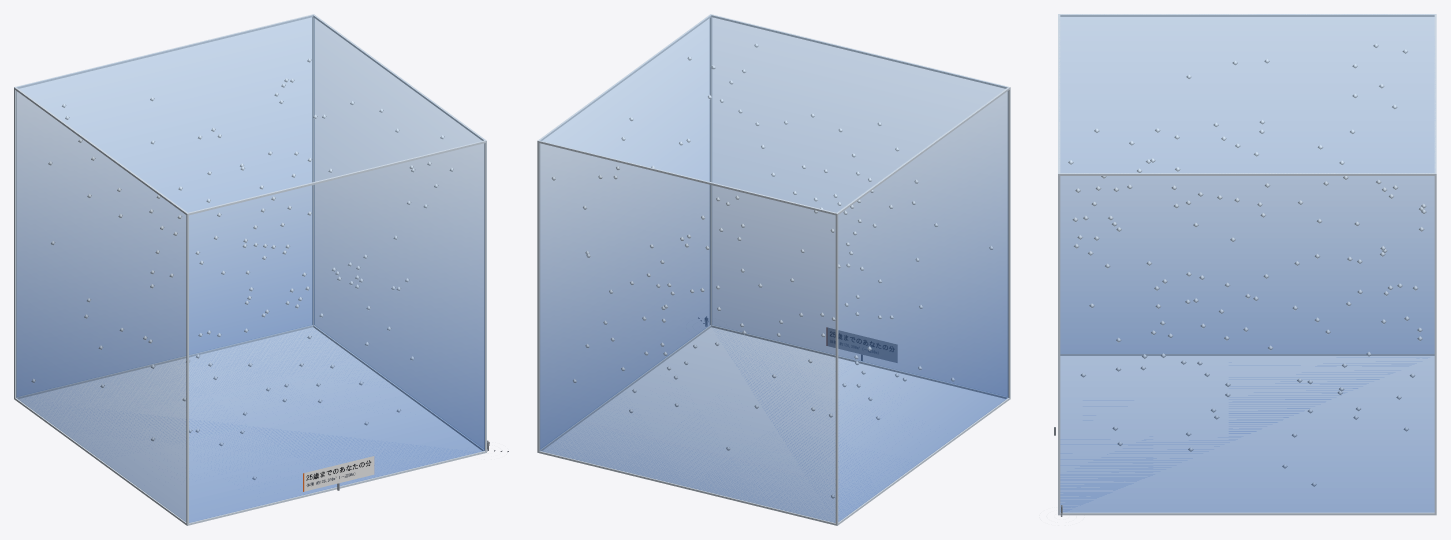
File: cube_life_25.glb
3 views of the same model, side by side, from view 1: azimuth 30°, elevation 25°; view 2: azimuth 150°, elevation 25°; view 3: azimuth 270°, elevation 25° (orthographic). The views are drawn at different scales.
Parts seen in each view (by area): view 1: co2, edge, dots, label; view 2: co2, edge, dots, label; view 3: co2, edge, dots.
Boxes of the visible parts, x1,y1,x2,y2 form: co2: [16, 15, 484, 522]; edge: [14, 14, 486, 525]; dots: [31, 58, 453, 480]; label: [303, 456, 374, 491]; co2: [540, 15, 1008, 522]; edge: [537, 14, 1010, 525]; dots: [551, 43, 993, 498]; label: [826, 327, 897, 362]; co2: [1059, 14, 1435, 512]; edge: [1058, 14, 1436, 515]; dots: [1068, 43, 1426, 486].
Size of the model in its own units: 53.9 by 50.18 by 53.
8 materials, 3 textured.
